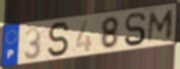3: (23, 26, 43, 61)
4: (74, 18, 94, 53)
8: (100, 15, 121, 50)
M: (146, 8, 176, 45)
S: (46, 21, 72, 59), (123, 11, 148, 48)
